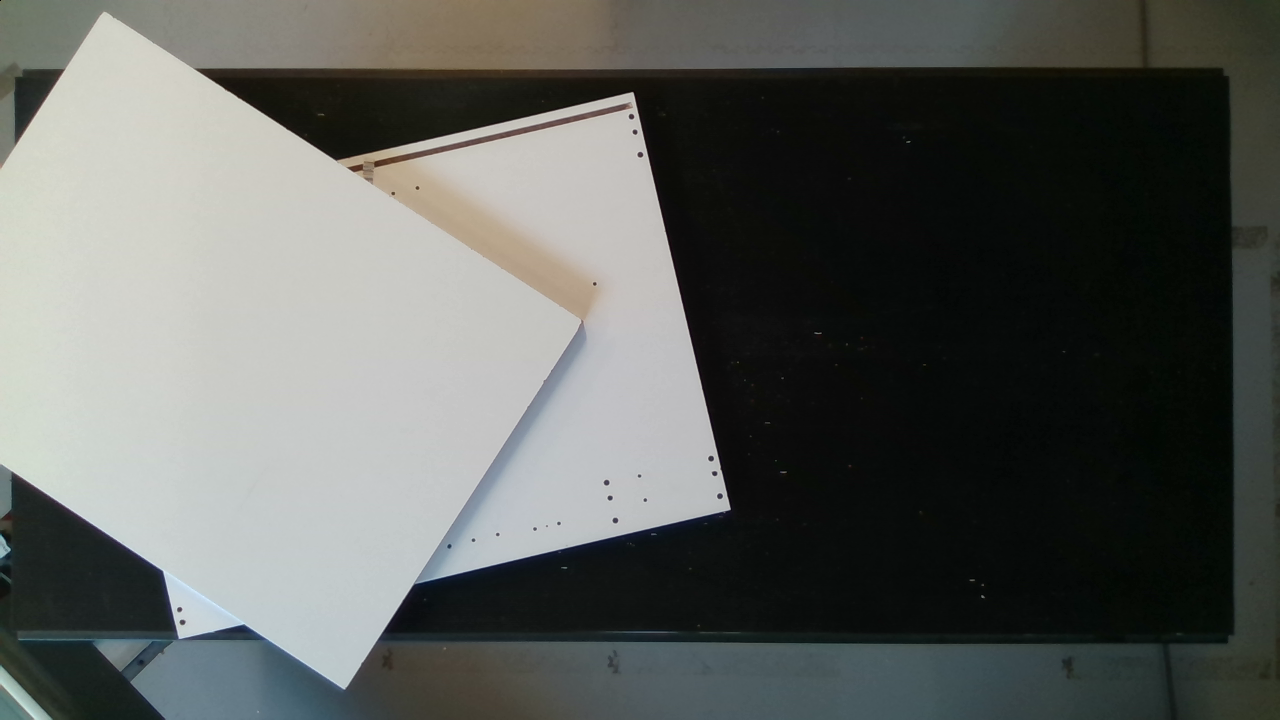part2: (3, 11, 592, 695)
